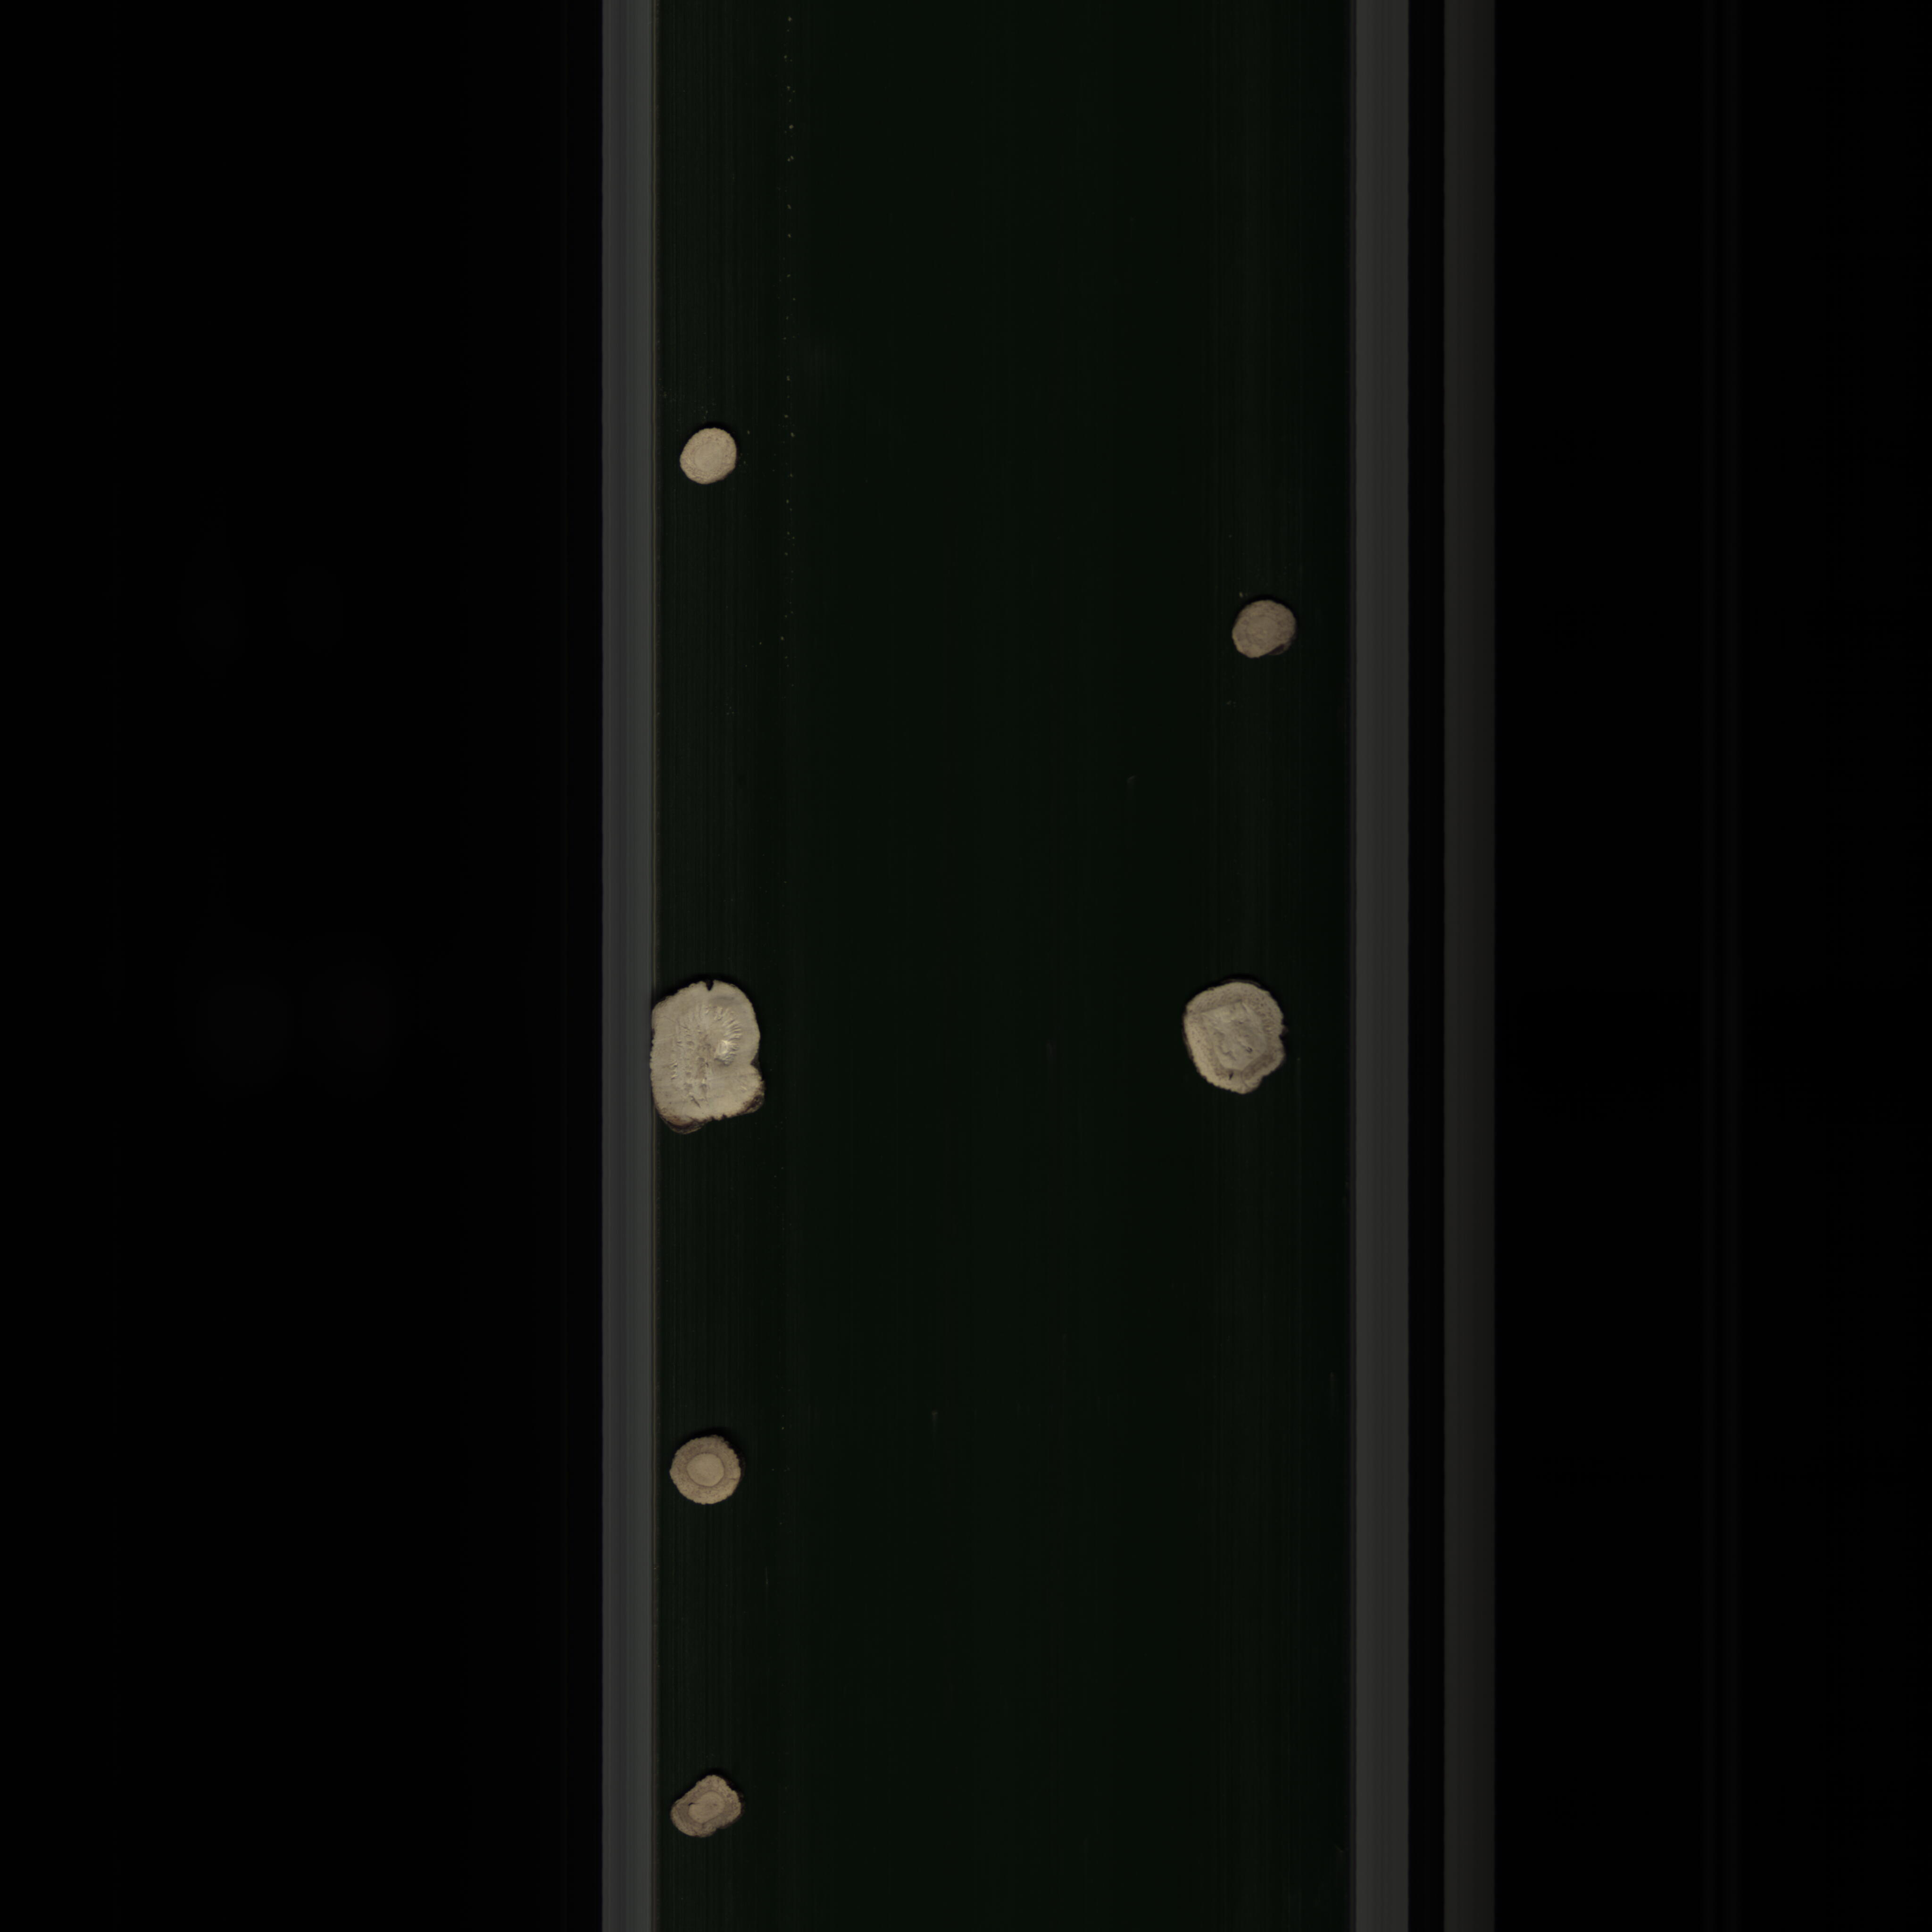debris: (642, 977, 773, 1159)
